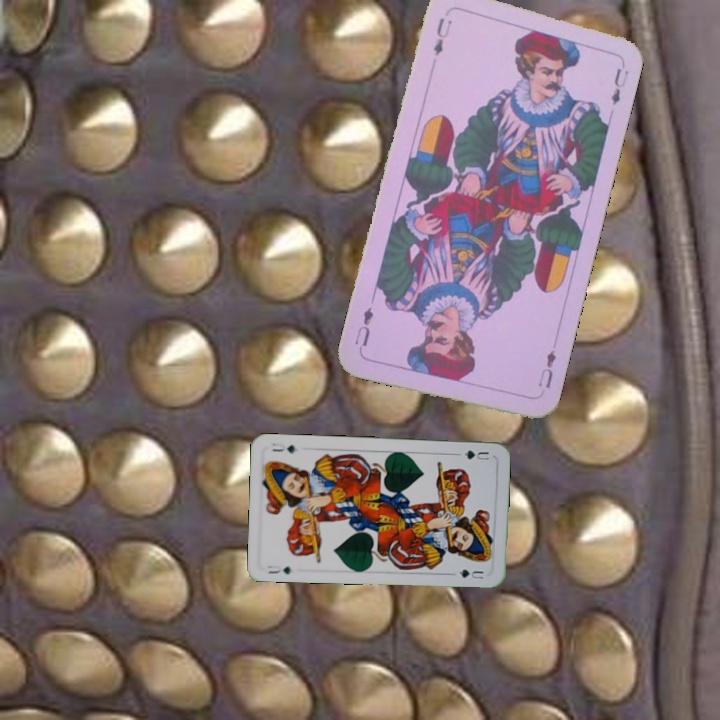EU: (533, 345, 559, 391), (429, 13, 454, 59)
GU: (460, 446, 492, 463), (264, 561, 294, 577)
